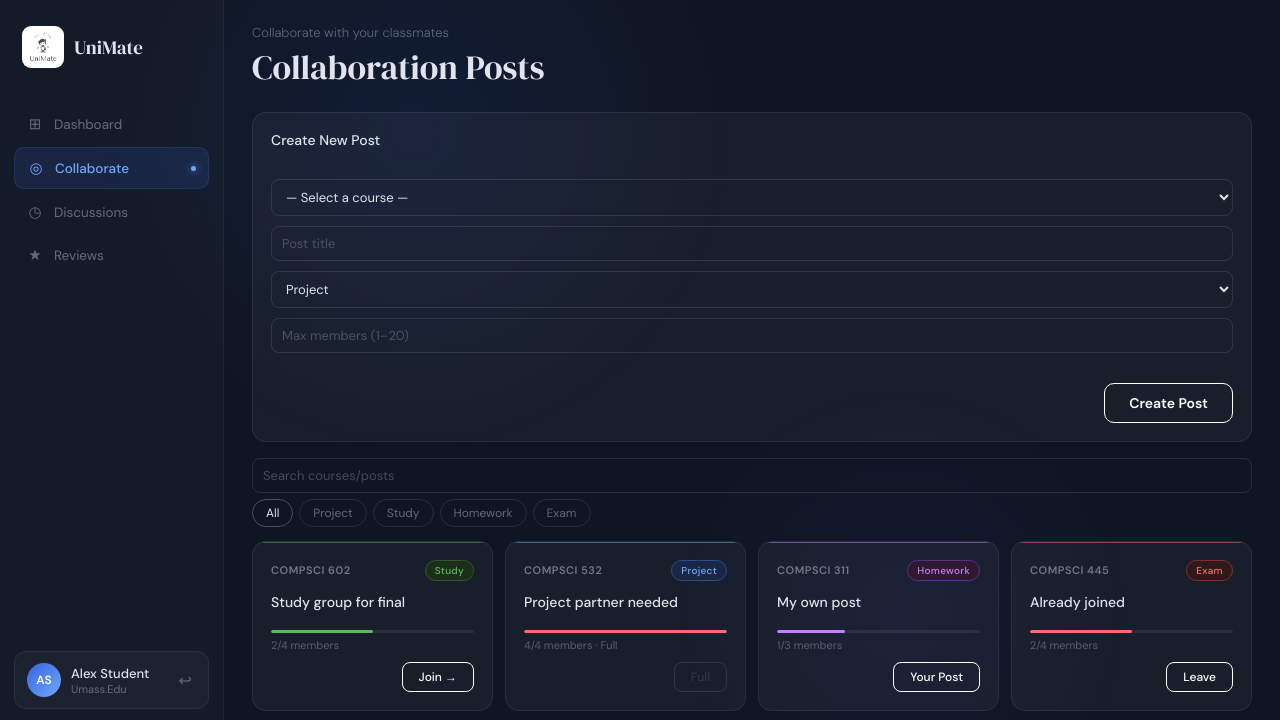
Test: CollaboratePage › author post › opens modal when Your Post clicked
Click the button "Your Post": click(937, 677) [893, 662, 980, 692]
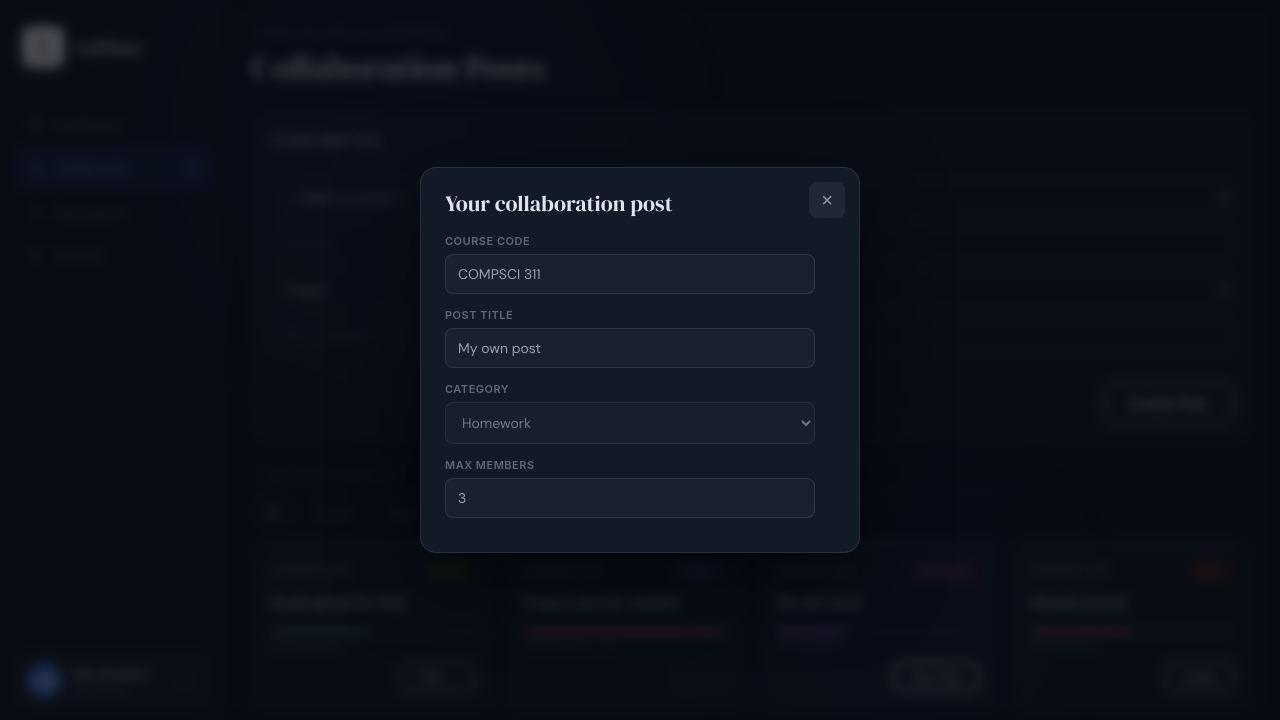
Result: the heading "Your collaboration post" is shown at [445, 188, 673, 218]
